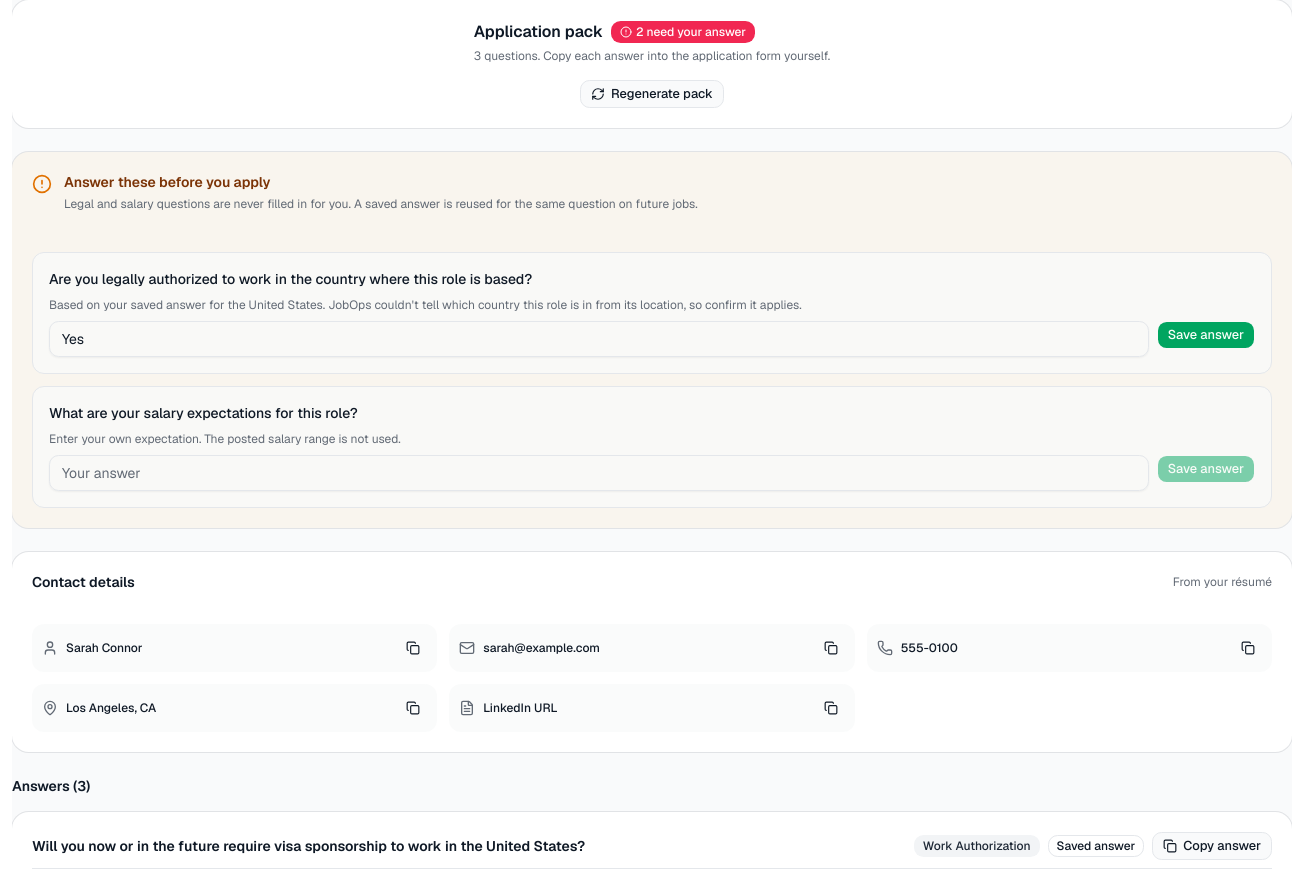
Scenario: ApplicationPackView › pre-fills a reused answer for confirmation and saves a new answer to memory
Expected: the field labelled "Are you legally authorized to work in the country where this role is based?" holds "Yes", [49,321,1149,357]
Type "$175,000 USD base" into the field labelled "What are your salary expectations for this role?" at (599, 473), box [49,455,1149,491]
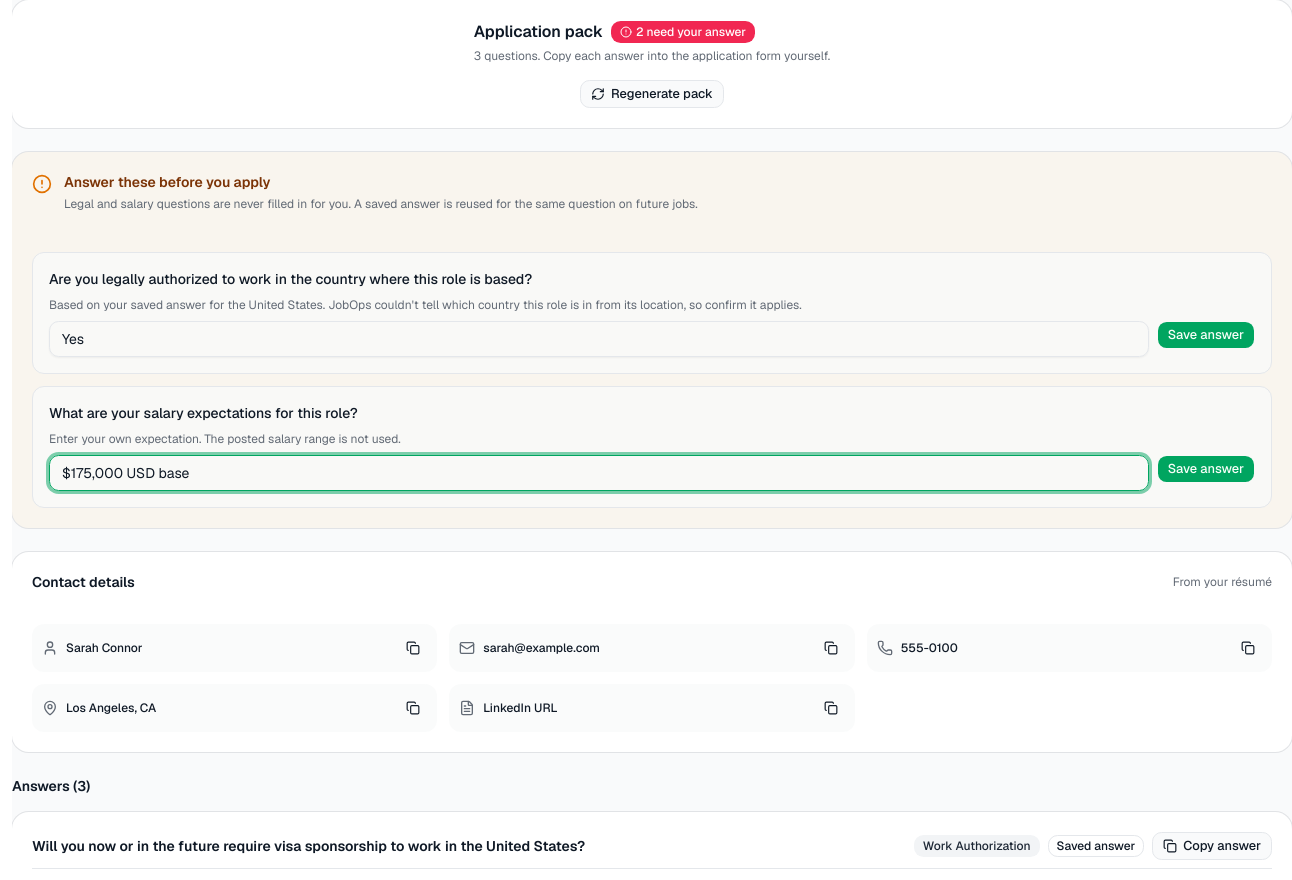
Click the 2nd button "Save answer" at (1206, 469), box [1157,455,1255,483]
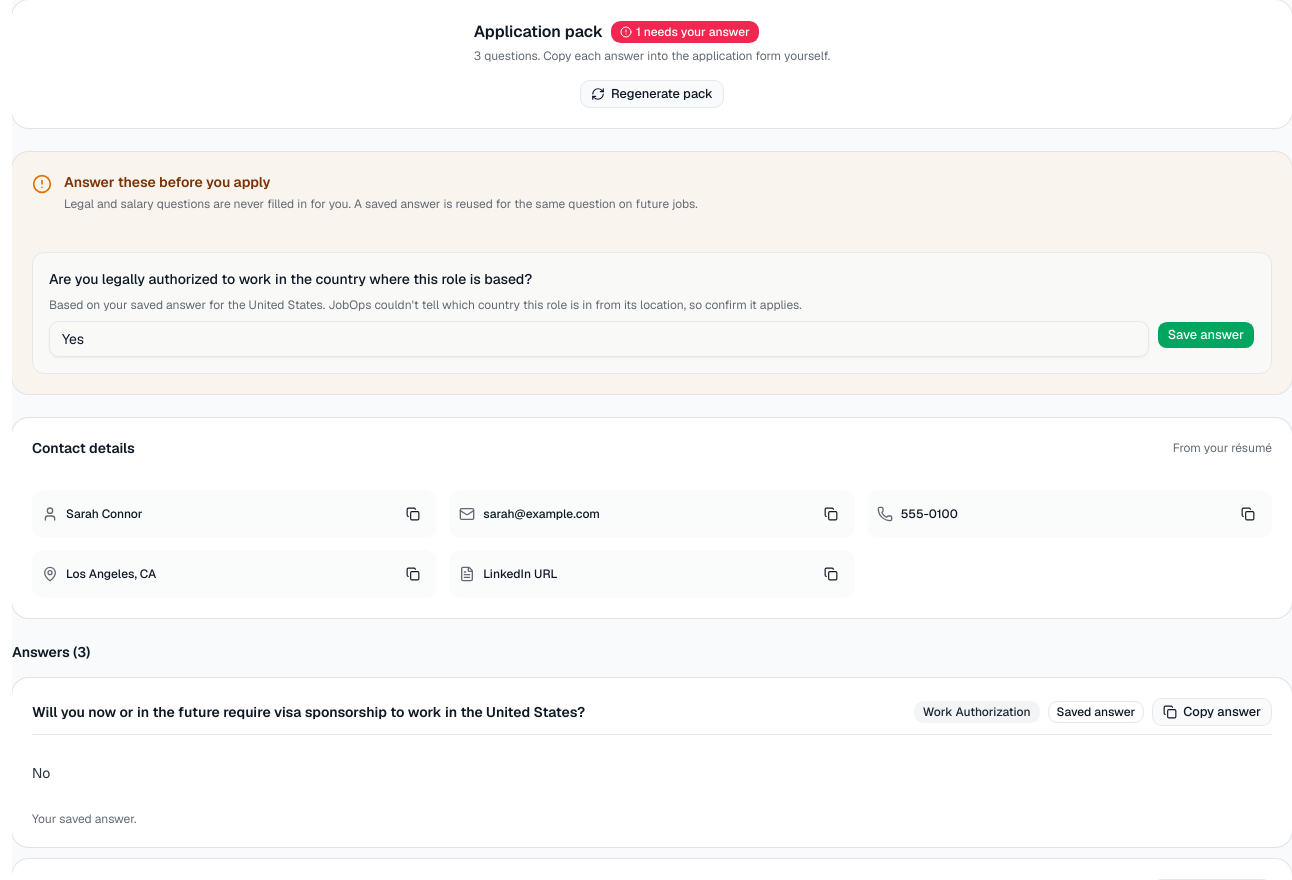
Now the text "1 needs your answer" is shown, box [611,21,759,43]
